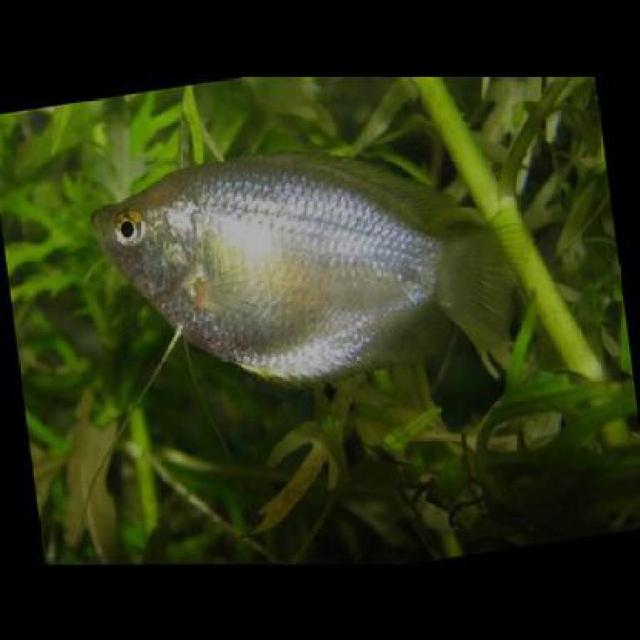Gourami: (89, 147, 526, 379)
